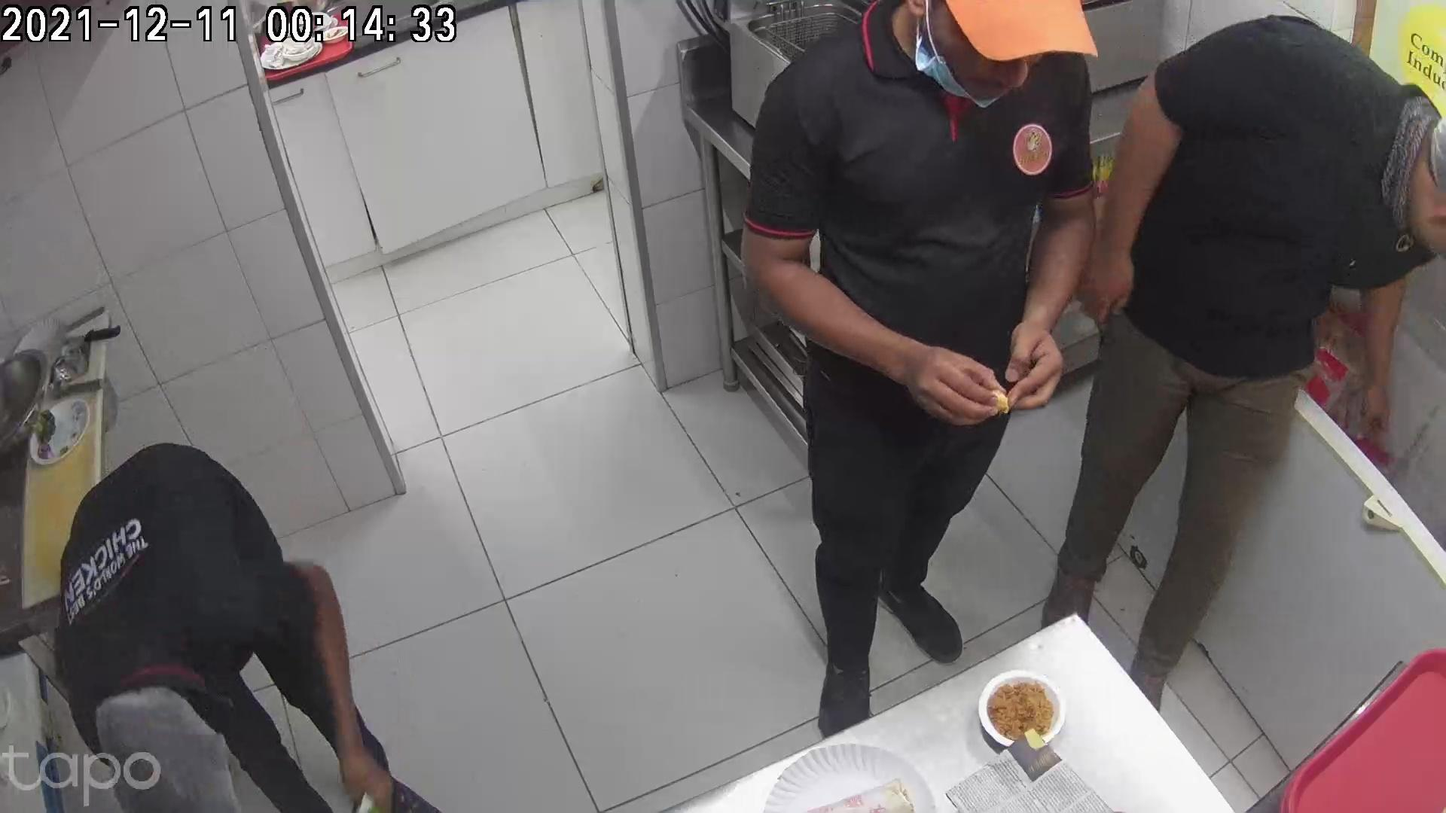no_gloves: (768, 240, 924, 333)
